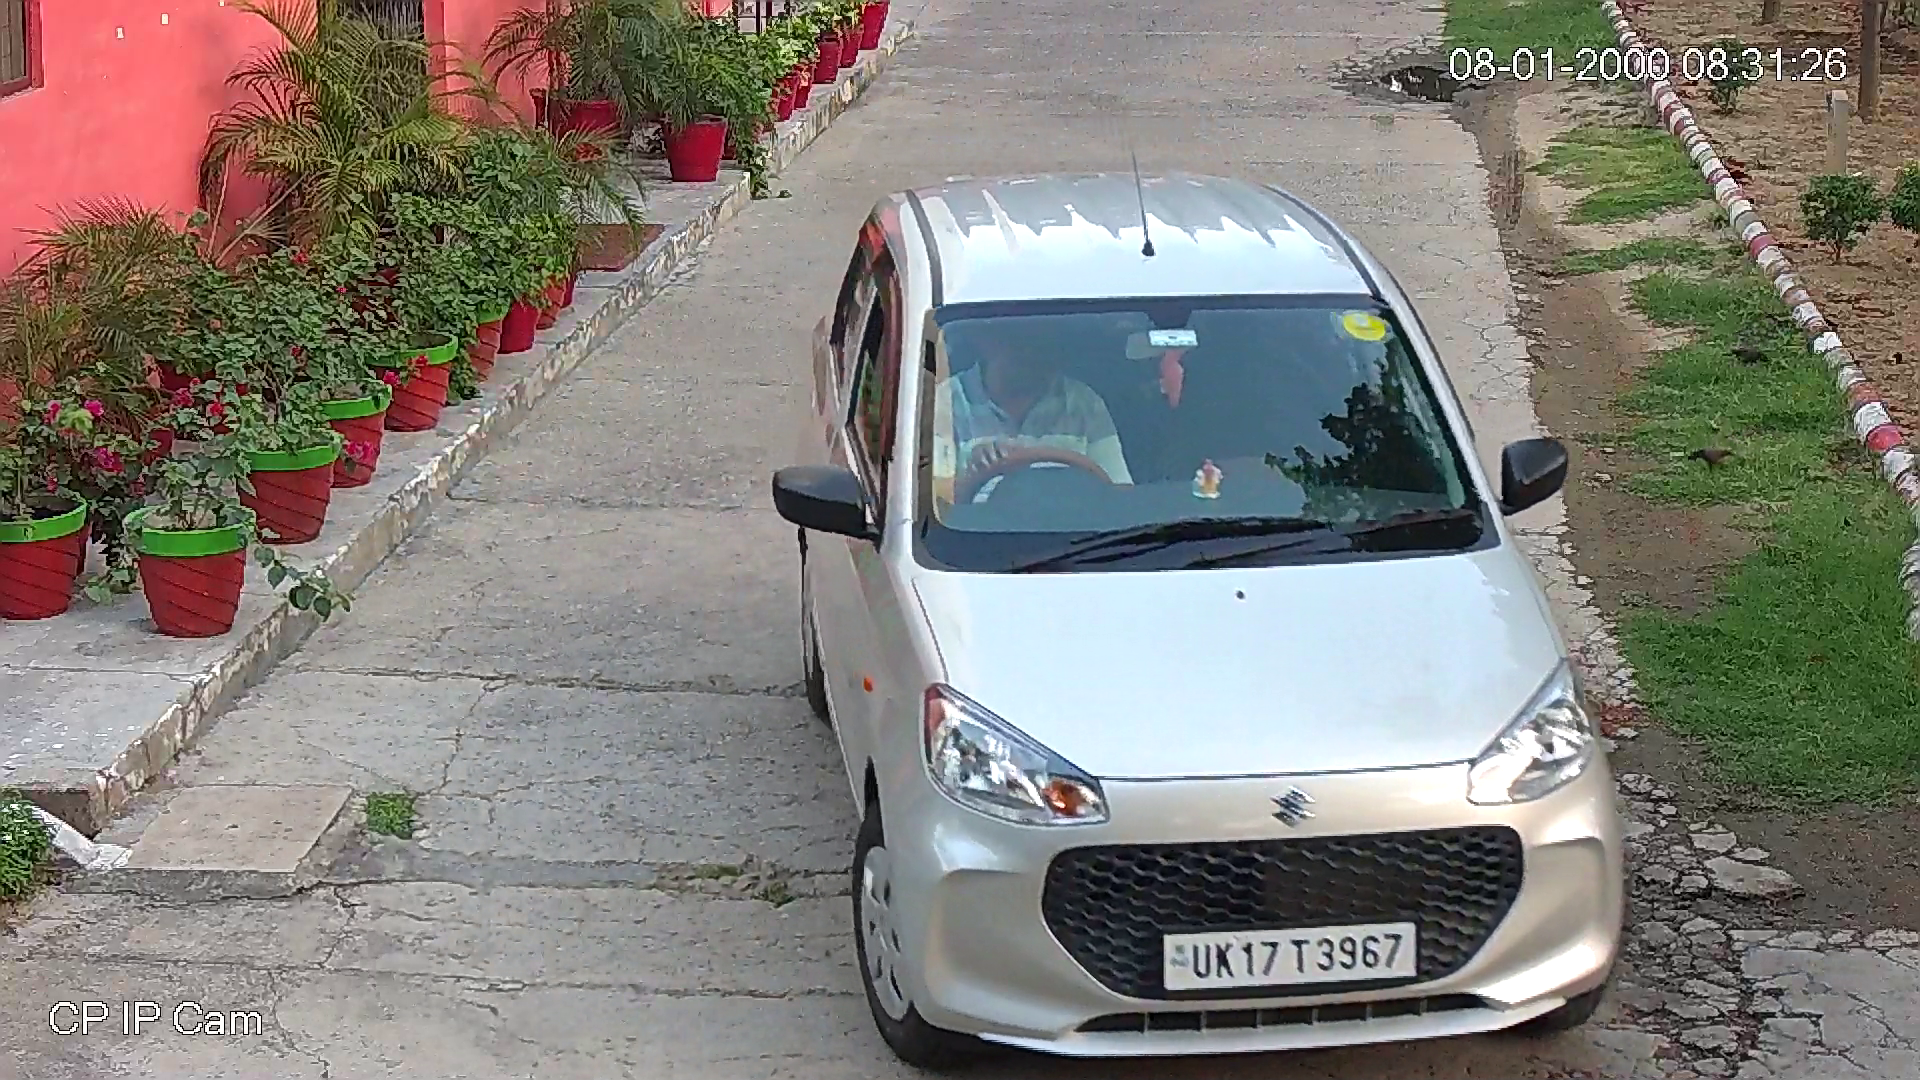plate: (1156, 912, 1423, 1001)
